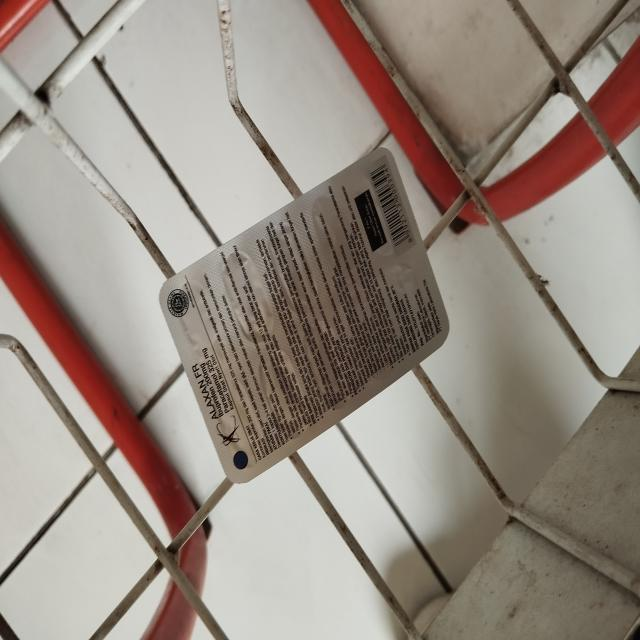B3: (159, 146, 448, 482)
